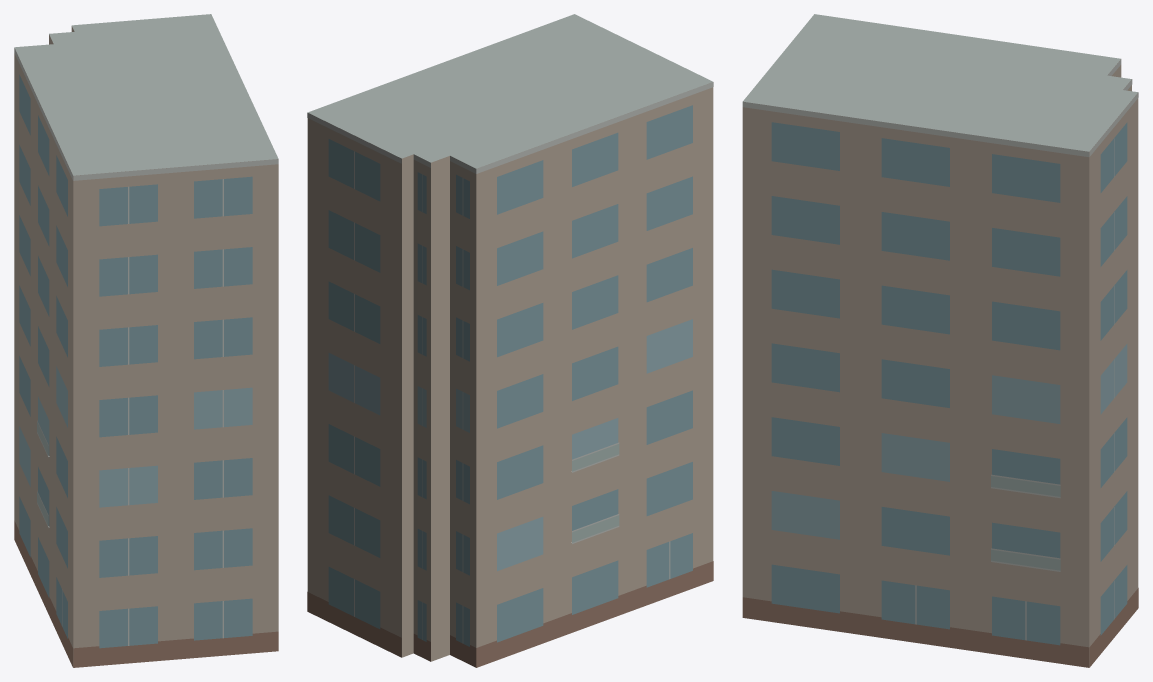
File: survey-upis-32973926.glb
3 views of the same model, side by side, from view 1: azimuth 30°, elevation 25°; view 2: azimuth 150°, elevation 25°; view 3: azimuth 270°, elevation 25° (orthographic). The views are drawn at different scales.
Parts seen in each view (by area): view 1: survey-upis-32973926.tmp; view 2: survey-upis-32973926.tmp; view 3: survey-upis-32973926.tmp.
Boxes of the visible parts, x1,y1,x2,y2 form: survey-upis-32973926.tmp: [14, 14, 278, 667]; survey-upis-32973926.tmp: [307, 14, 713, 667]; survey-upis-32973926.tmp: [742, 14, 1138, 667].
Size of the model in its own units: 13.12 by 22.9 by 15.92.
